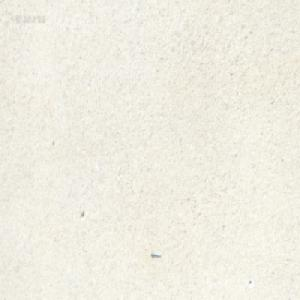Nail: (150, 249, 160, 257)
